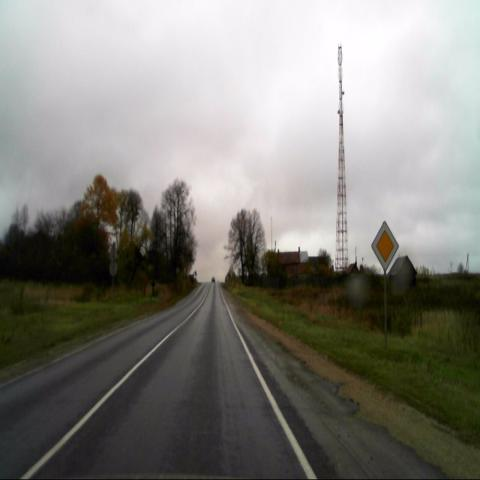2_1: (372, 220, 400, 272)
